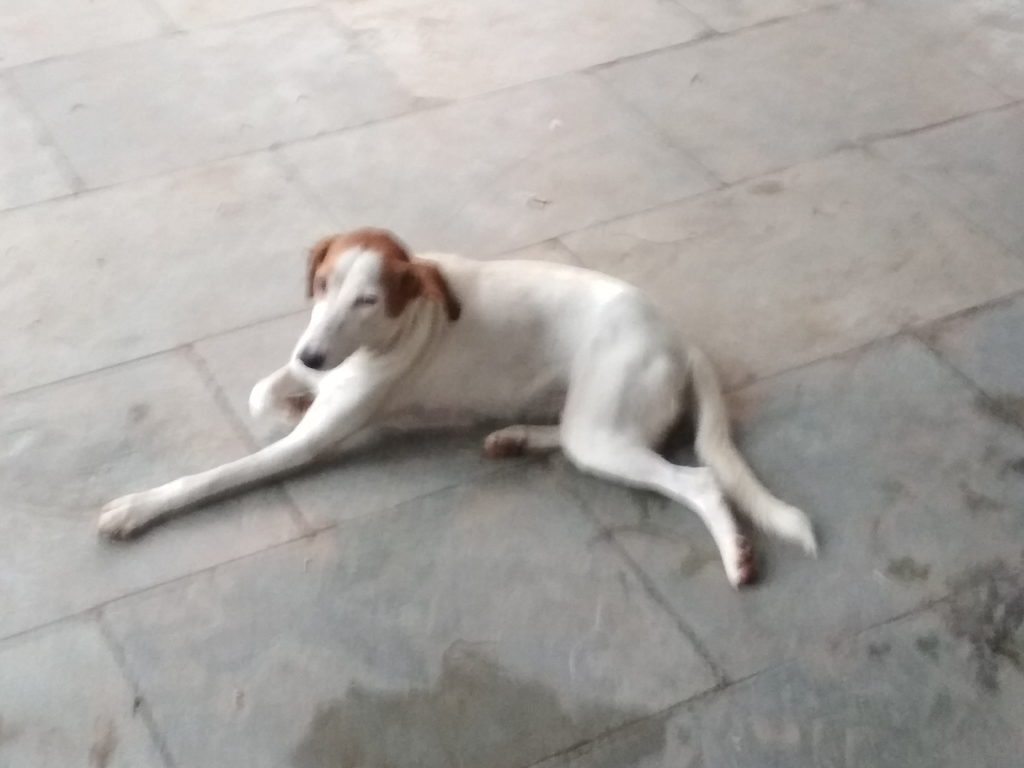dog: (98, 228, 821, 588)
